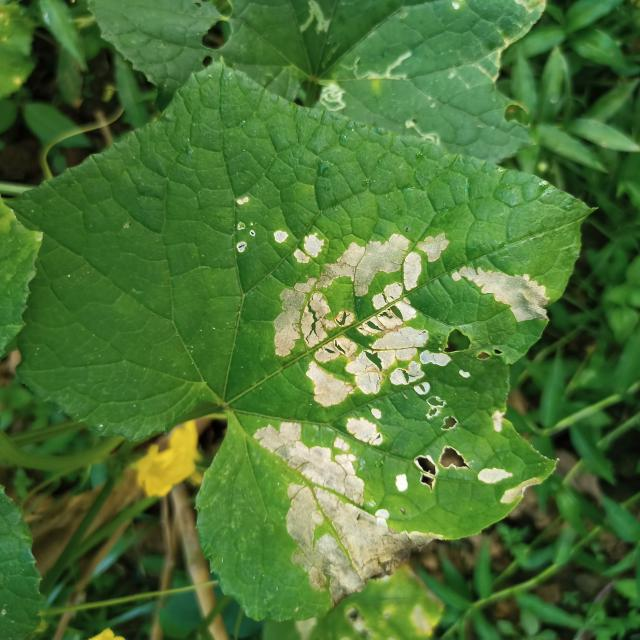disease_cucumber: (249, 406, 549, 604), (267, 228, 551, 408), (226, 194, 261, 265)
